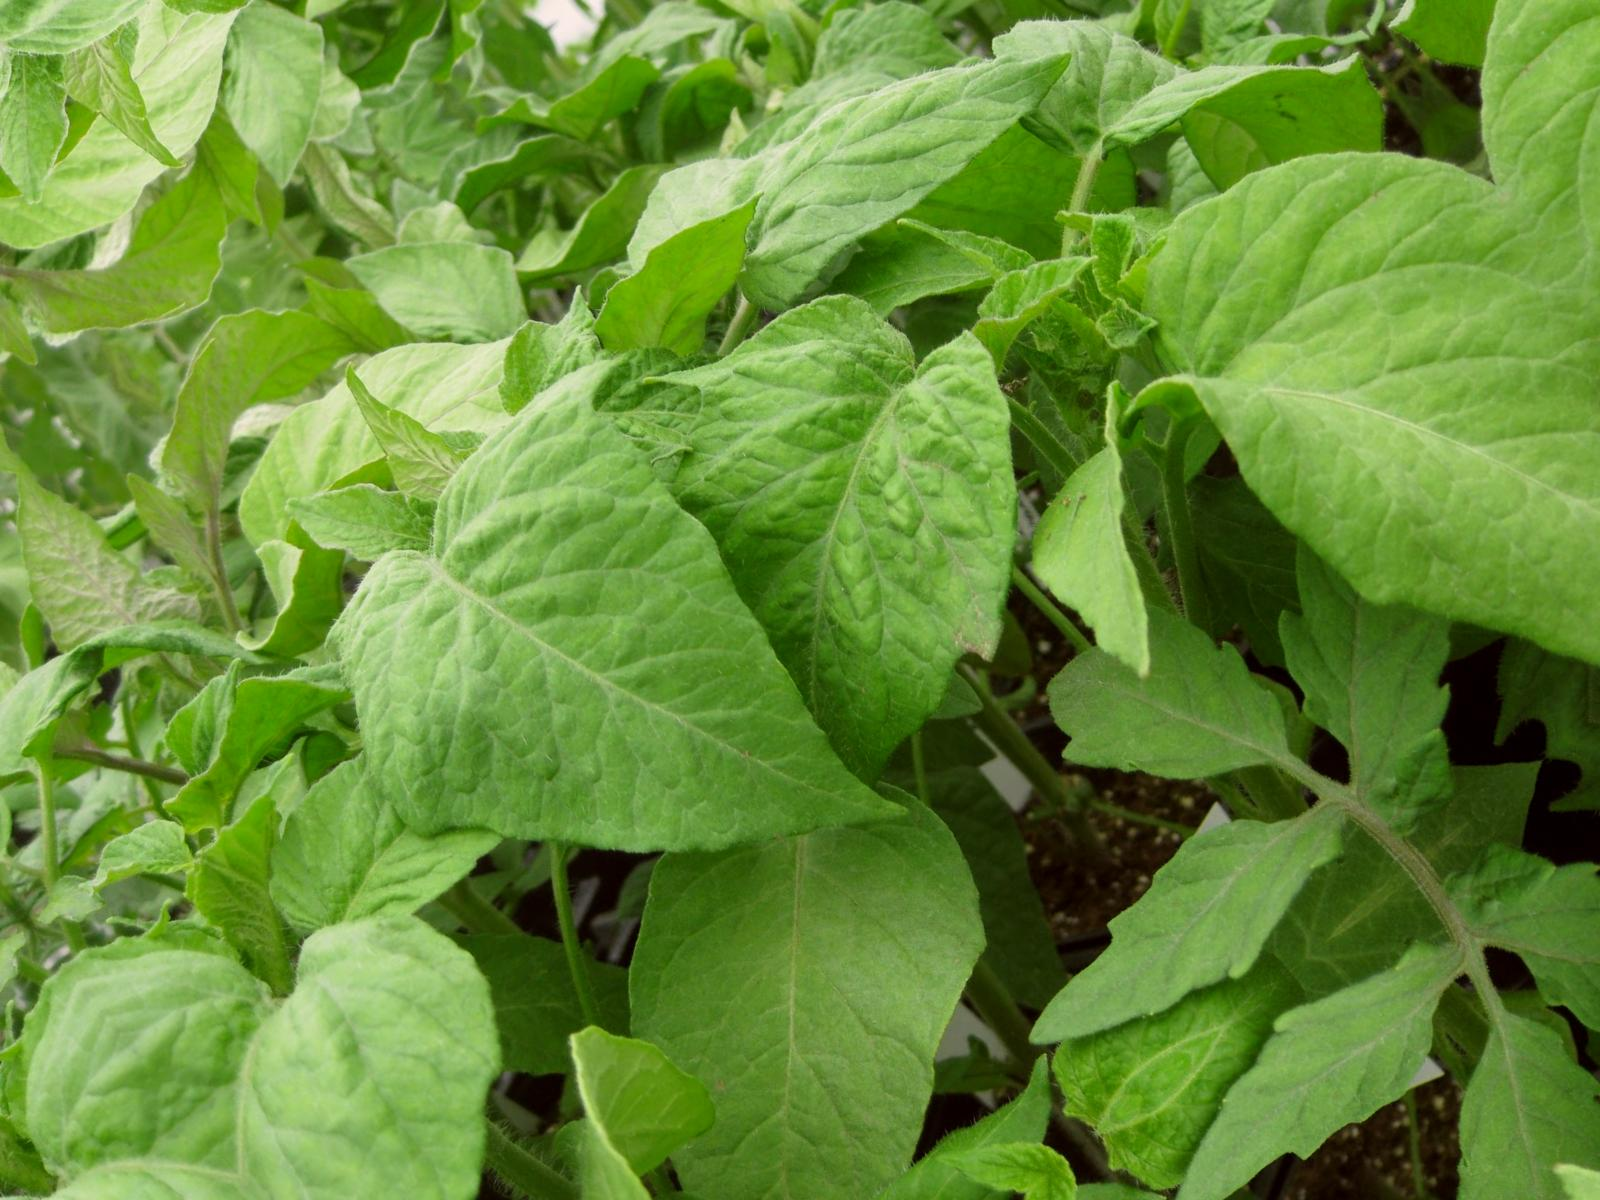Tomato leaf: (207, 328, 935, 1076), (603, 0, 1077, 364)
